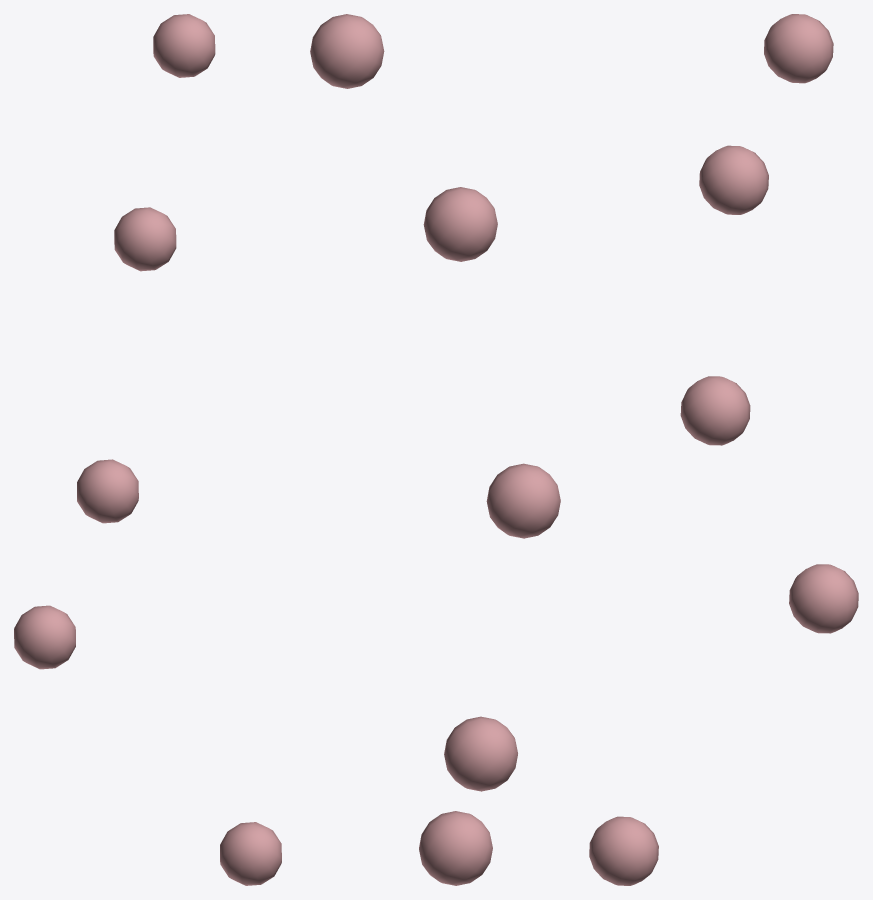
3 renders of one model, left to right at view 1: azimuth 30°, elevation 25°; view 2: azimuth 150°, elevation 25°; view 3: azimuth 270°, elevation 25°, orthographic. The views are drawn at different scales.
Parts seen in each view (by area): view 1: ZA_6cca57234aa2d84a; view 2: ZA_6cca57234aa2d84a; view 3: ZA_6cca57234aa2d84a.
Part boxes in pixels (<box>): ZA_6cca57234aa2d84a: <box>14,14,281,885</box>; ZA_6cca57234aa2d84a: <box>310,14,560,885</box>; ZA_6cca57234aa2d84a: <box>589,14,858,885</box>.
Bounding box in the file's own units: 0.00845 × 0.0355 × 0.00993.
